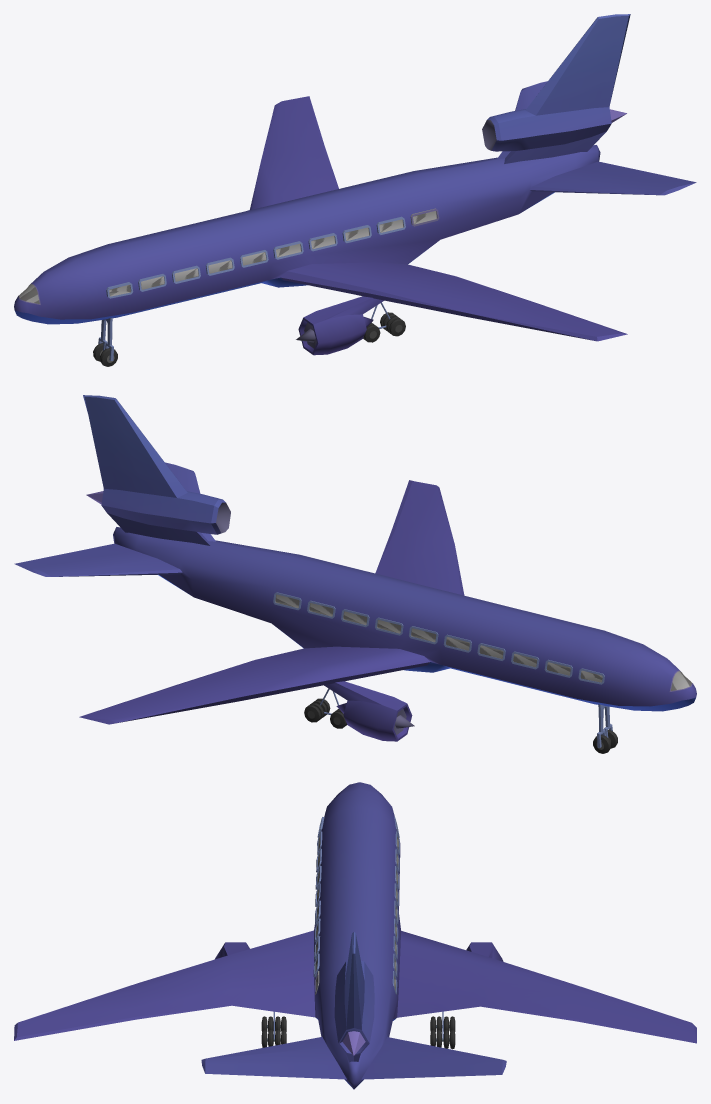
The picture shows the model from 3 angles, top to bottom: view 1: azimuth 30°, elevation 25°; view 2: azimuth 150°, elevation 25°; view 3: azimuth 270°, elevation 25°; orthographic projection. The views are drawn at different scales.
Visible parts, largest first — view 1: Plane_3_H; view 2: Plane_3_H; view 3: Plane_3_H.
Boxes of the visible parts, x1,y1,x2,y2 form: Plane_3_H: [14, 14, 696, 366]; Plane_3_H: [14, 395, 696, 753]; Plane_3_H: [14, 782, 696, 1089].
Bounding box in the file's own units: 2712 × 969 × 2481.
